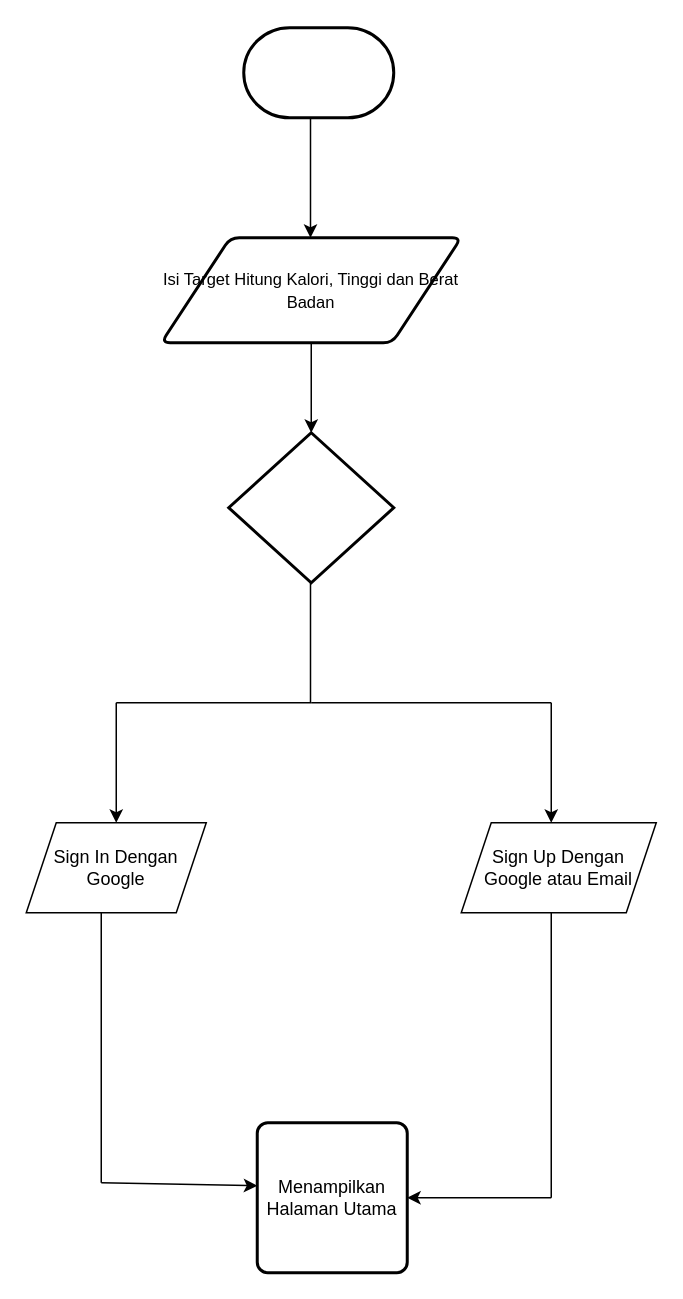
This 683x1299 diagram has some shape labels left out. The shapes that lost their labels are listed below. From the top down, each one's centre as x and y in pixels, then its label:
At pixel 318 72: "Mulai".
At pixel 310 507: "Pilih Sign In atau Sign Up".
